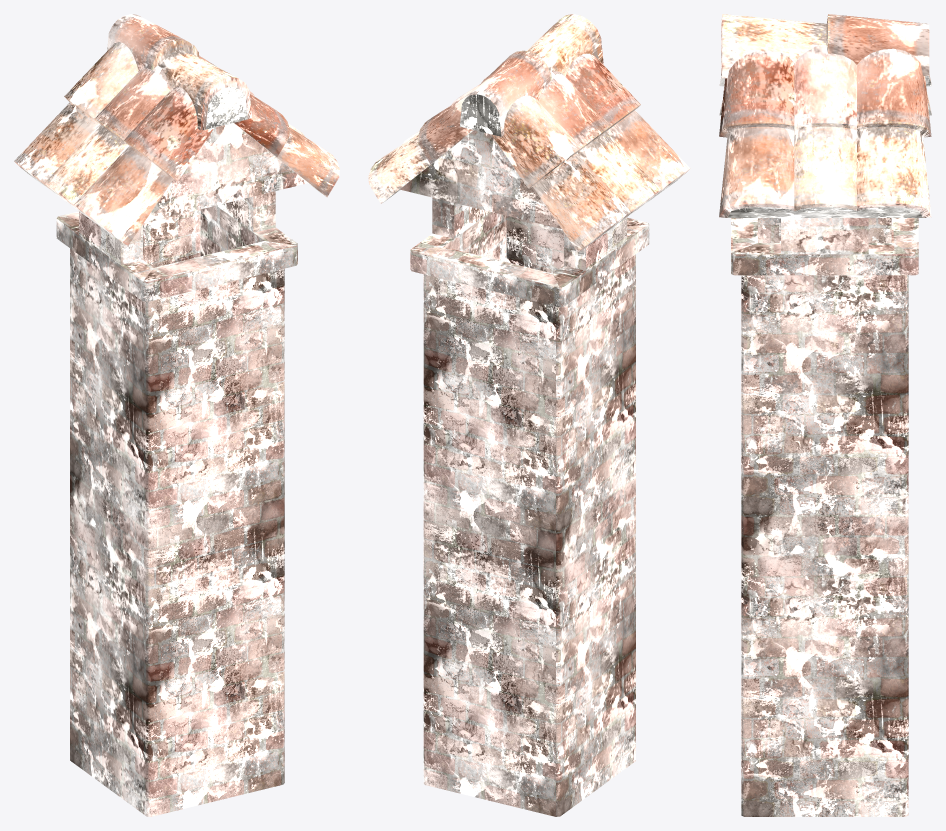
The model's file is SM_chimney_04.fbx.
3 renders of one model, left to right at view 1: azimuth 30°, elevation 25°; view 2: azimuth 150°, elevation 25°; view 3: azimuth 270°, elevation 25°, orthographic. The views are drawn at different scales.
Parts seen in each view (by area): view 1: SM_chimney_04_LOD0; view 2: SM_chimney_04_LOD0; view 3: SM_chimney_04_LOD0.
Part boxes in pixels (x1,y1,x2,y2): SM_chimney_04_LOD0: [14, 14, 339, 816]; SM_chimney_04_LOD0: [368, 14, 690, 816]; SM_chimney_04_LOD0: [719, 14, 931, 816].
Bounding box in the file's own units: 142 × 102 × 405.
Materials: 3 (3 with a texture image).
